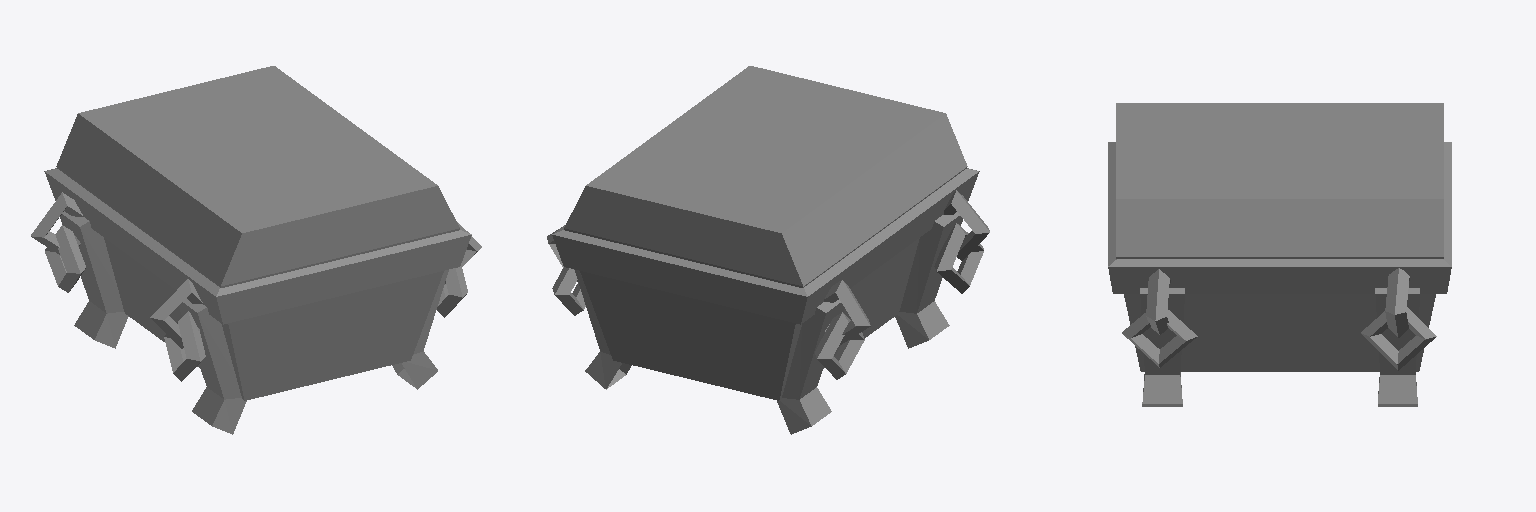
File: chest.obj
3 views of the same model, side by side, from view 1: azimuth 30°, elevation 25°; view 2: azimuth 150°, elevation 25°; view 3: azimuth 270°, elevation 25° (orthographic).
Parts seen in each view (by area): view 1: chest; view 2: chest; view 3: chest.
Boxes of the visible parts, x1,y1,x2,y2 form: chest: [31, 66, 481, 434]; chest: [547, 66, 989, 434]; chest: [1108, 103, 1451, 406].
Bounding box in the file's own units: 2.99 × 1.84 × 2.71.